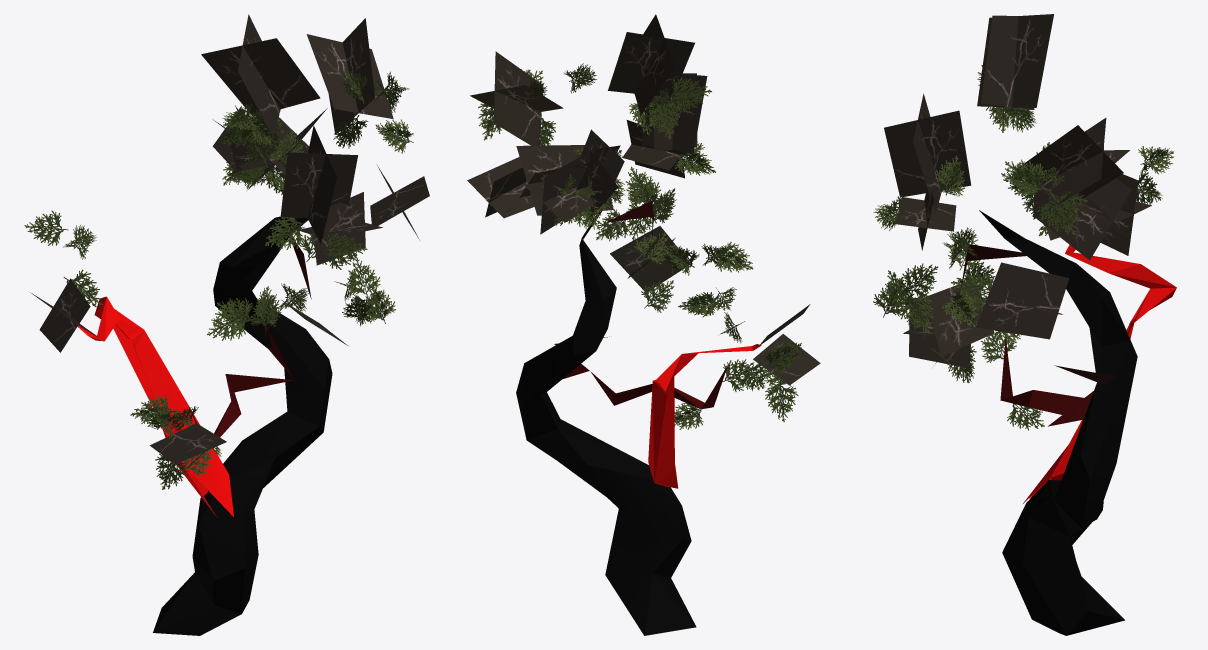
The model's file is cpine1 lod4.FBX.
The picture shows the model from 3 angles, left to right: view 1: azimuth 30°, elevation 25°; view 2: azimuth 150°, elevation 25°; view 3: azimuth 270°, elevation 25°; orthographic projection. The views are drawn at different scales.
Visible parts, largest first — view 1: cpine1_LOD4; view 2: cpine1_LOD4; view 3: cpine1_LOD4.
Boxes of the visible parts, bbox=[...] form: cpine1_LOD4: bbox=[24, 14, 429, 635]; cpine1_LOD4: bbox=[467, 14, 820, 635]; cpine1_LOD4: bbox=[873, 14, 1176, 635].
Size of the model in its own units: 75152 by 114103 by 56167.
